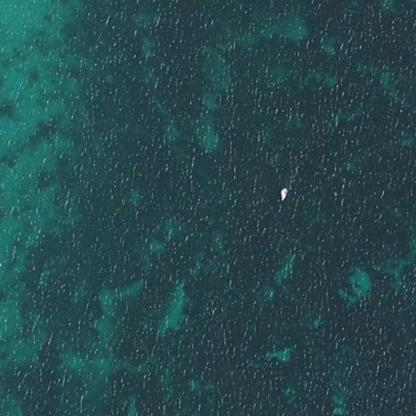ship: (273, 180, 292, 205)
